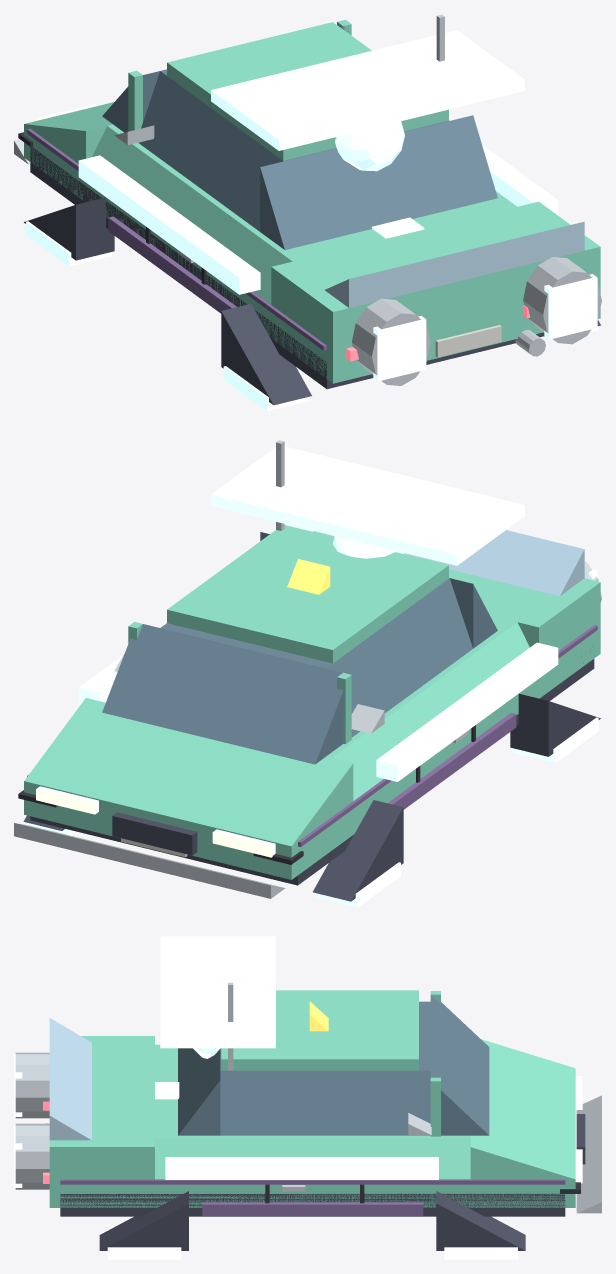
File: holo_hopper.glb
3 renders of one model, top to bottom at view 1: azimuth 30°, elevation 25°; view 2: azimuth 150°, elevation 25°; view 3: azimuth 270°, elevation 25°, orthographic. The views are drawn at different scales.
Parts seen in each view (by area): view 1: SolarSail.016, RearWindow.205, Tail.105, CabinSideL.102, Roof.305, Body.305, Ducktail.072, FloatFin-1.047, ShoulderL.102, Sill.301, HoverPodWheel_RL.047, BodyUpper.102 (+17 smaller); view 2: Nose.102, Windshield.205, Roof.305, SolarSail.016, Body.305, CabinSideL.102, ShoulderL.102, FloatFin-1.047, Tail.105, Ducktail.072, HoverPodWheel_FL.047, Bumper.301 (+17 smaller); view 3: CabinSideR.102, SolarSail.016, Roof.305, Nose.102, Tail.105, Body.305, Sill.301, ShoulderR.102, Windshield.205, FloatFin1.047, Ducktail.072, RearWindow.205 (+14 smaller).
Part boxes in pixels (box(x1,y1,x2,y2)): SolarSail.016: box(211, 30, 524, 150); RearWindow.205: box(260, 115, 497, 249); Tail.105: box(271, 201, 600, 349); CabinSideL.102: box(138, 71, 283, 231); Roof.305: box(167, 22, 448, 160); Body.305: box(24, 124, 600, 383); Ducktail.072: box(325, 221, 584, 307); FloatFin-1.047: box(78, 155, 260, 294); ShoulderL.102: box(92, 126, 292, 304); Sill.301: box(30, 147, 544, 389); HoverPodWheel_RL.047: box(221, 303, 311, 405); BodyUpper.102: box(108, 124, 516, 261); Nose.102: box(24, 698, 353, 846); Windshield.205: box(102, 624, 343, 764); Roof.305: box(167, 525, 448, 663); SolarSail.016: box(211, 446, 524, 565); Body.305: box(24, 620, 600, 879); CabinSideL.102: box(326, 578, 472, 737); ShoulderL.102: box(332, 622, 529, 800); FloatFin-1.047: box(376, 642, 558, 781); Tail.105: box(313, 531, 600, 650); Ducktail.072: box(326, 530, 584, 596); HoverPodWheel_FL.047: box(313, 800, 403, 901); Bumper.301: box(14, 823, 285, 898); CabinSideR.102: box(220, 1070, 430, 1135); SolarSail.016: box(160, 936, 275, 1048); Roof.305: box(221, 990, 418, 1070); Nose.102: box(470, 1039, 575, 1179); Tail.105: box(49, 1036, 154, 1179); Body.305: box(49, 1179, 575, 1207); Sill.301: box(60, 1193, 565, 1216); ShoulderR.102: box(155, 1138, 470, 1179); Windshield.205: box(430, 995, 489, 1135); FloatFin1.047: box(165, 1157, 438, 1179); Ducktail.072: box(49, 1018, 91, 1140); RearWindow.205: box(178, 1048, 220, 1135).
Bounding box in the file's own units: 3.1 × 2.52 × 5.59.
